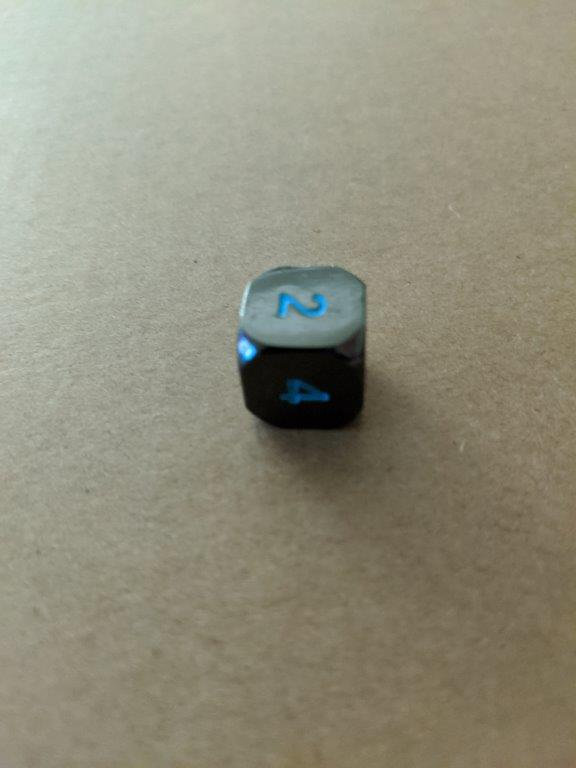d6-2: (235, 264, 370, 434)
